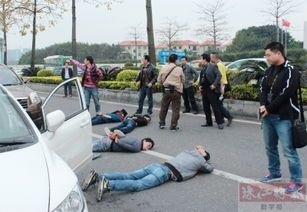10+: (18, 39, 303, 205)
down: (81, 139, 219, 205), (77, 128, 158, 158), (103, 111, 155, 141), (84, 105, 134, 128)
